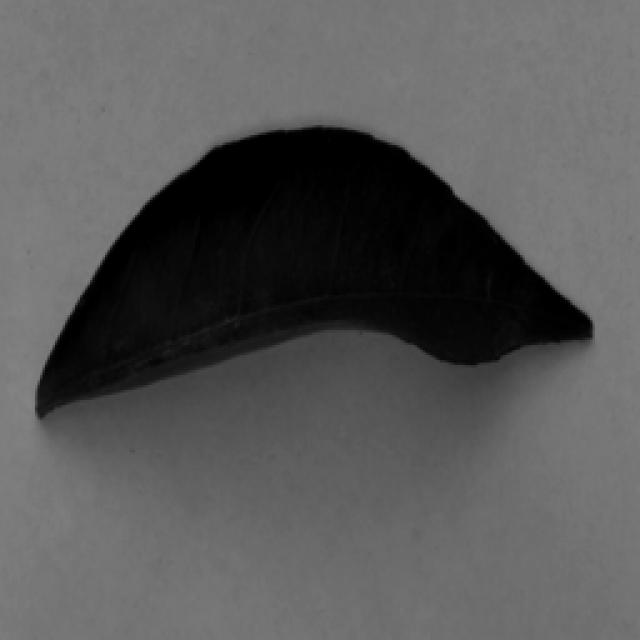healthy: (36, 119, 593, 440)
